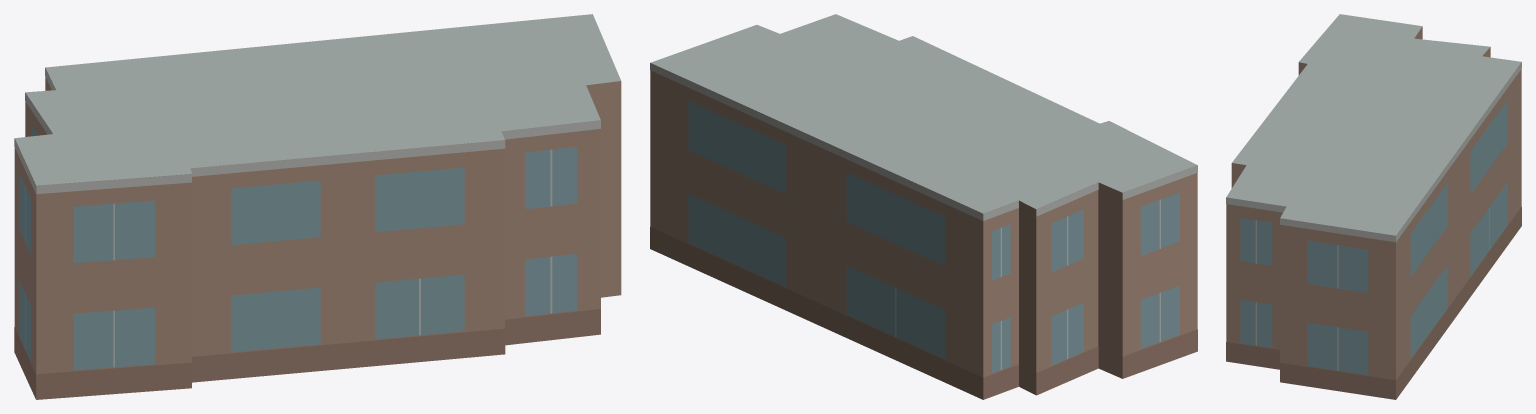
Rendered from survey-upis-32671297.glb.
The picture shows the model from 3 angles, left to right: view 1: azimuth 30°, elevation 25°; view 2: azimuth 150°, elevation 25°; view 3: azimuth 270°, elevation 25°; orthographic projection. The views are drawn at different scales.
Parts seen in each view (by area): view 1: survey-upis-32671297.tmp; view 2: survey-upis-32671297.tmp; view 3: survey-upis-32671297.tmp.
Boxes of the visible parts, box(x1,y1,x2,y2) form: survey-upis-32671297.tmp: box(14, 14, 621, 399); survey-upis-32671297.tmp: box(650, 14, 1197, 399); survey-upis-32671297.tmp: box(1226, 14, 1521, 399).
Size of the model in its own units: 17.69 by 6.1 by 9.97.
